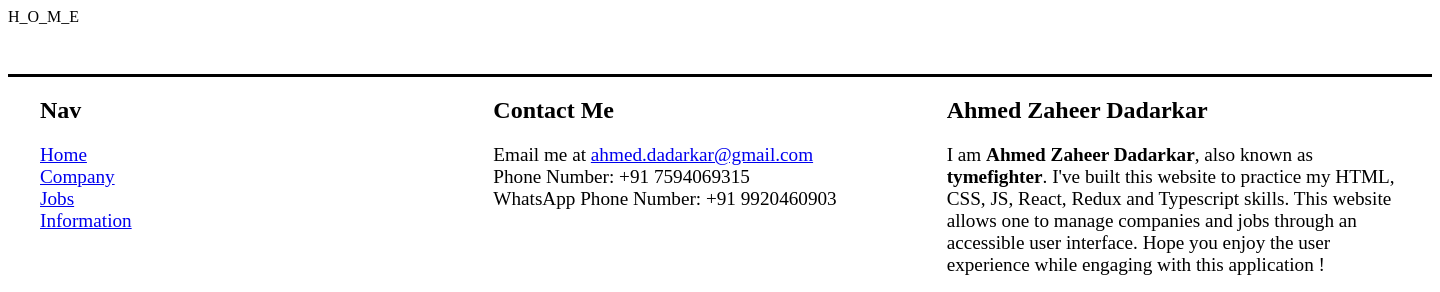
Test case: Footer Link test by clicking
The image size is (1440, 292).
What coordinates should you click on to do the following:
click the link "Company"
I would click on:
 (77, 176)
Its box is left=40, top=166, right=115, bottom=187.
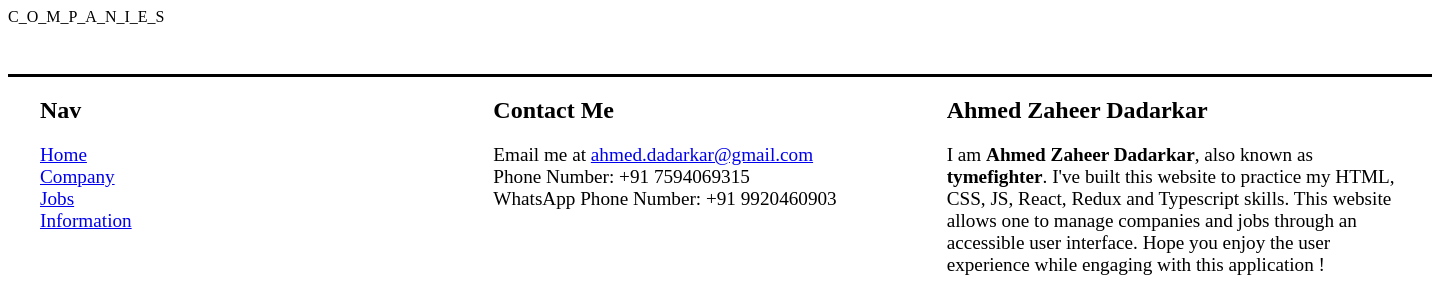
Check: the text "C_O_M_P_A_N_I_E_S" is shown, box left=8, top=8, right=164, bottom=25
What coordinates should you click on to do the following:
click the link "Jobs"
I would click on:
 (57, 198)
Its box is left=40, top=188, right=74, bottom=209.
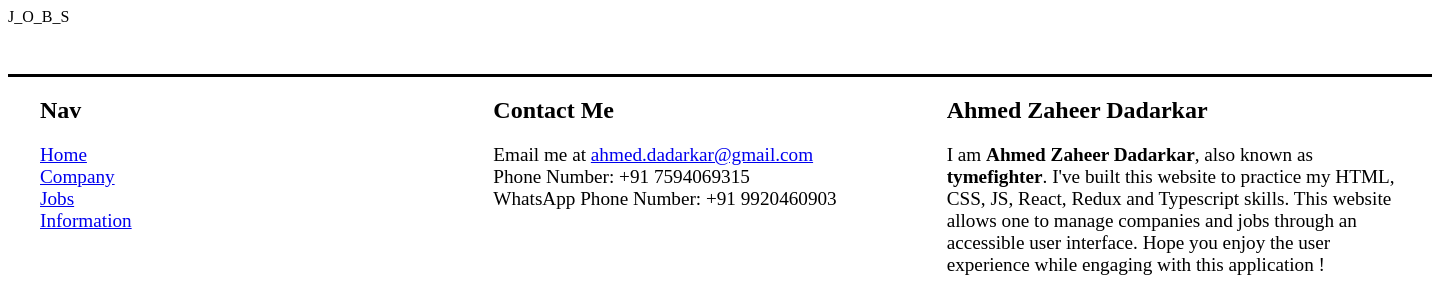
Check: the text "J_O_B_S" is shown, box left=8, top=8, right=69, bottom=25
What coordinates should you click on to do the following:
click the link "Information"
I would click on:
 (86, 220)
Its box is left=40, top=210, right=132, bottom=231.
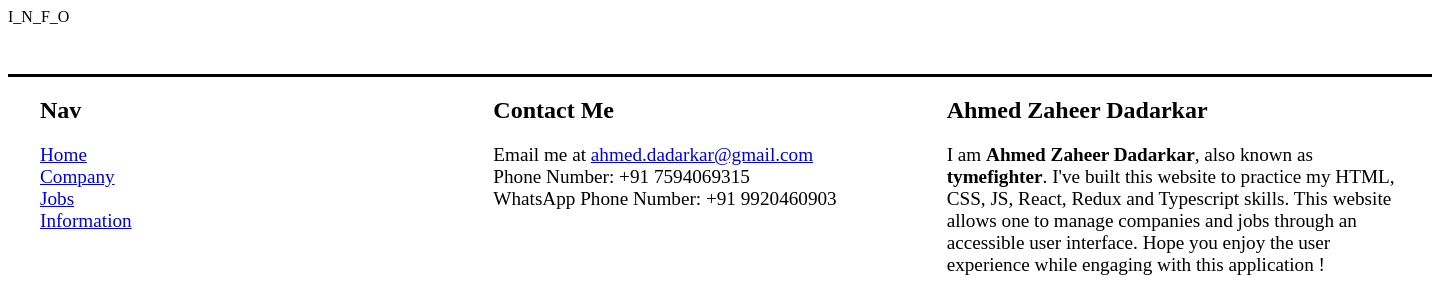
Check: the text "I_N_F_O" is shown, box left=8, top=8, right=69, bottom=25
What coordinates should you click on to do the following:
click the link "Home"
I would click on:
 (63, 154)
Its box is left=40, top=144, right=87, bottom=165.
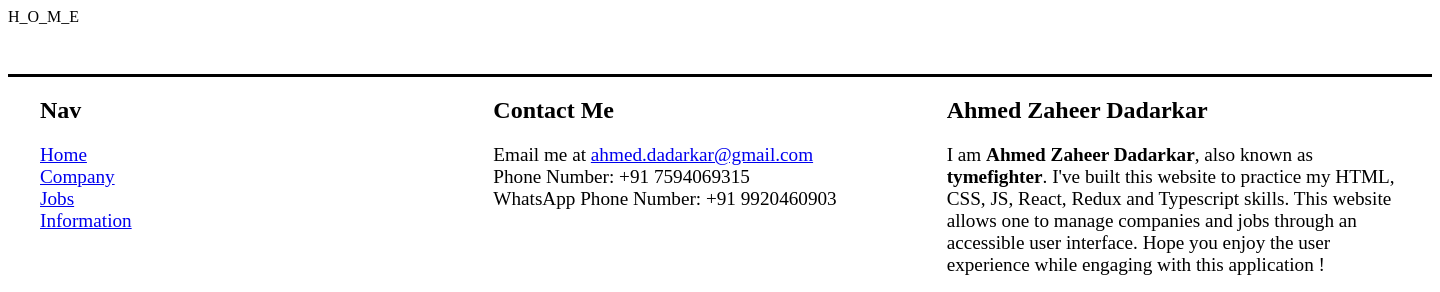
Check: the text "H_O_M_E" is shown, box left=8, top=8, right=79, bottom=25
